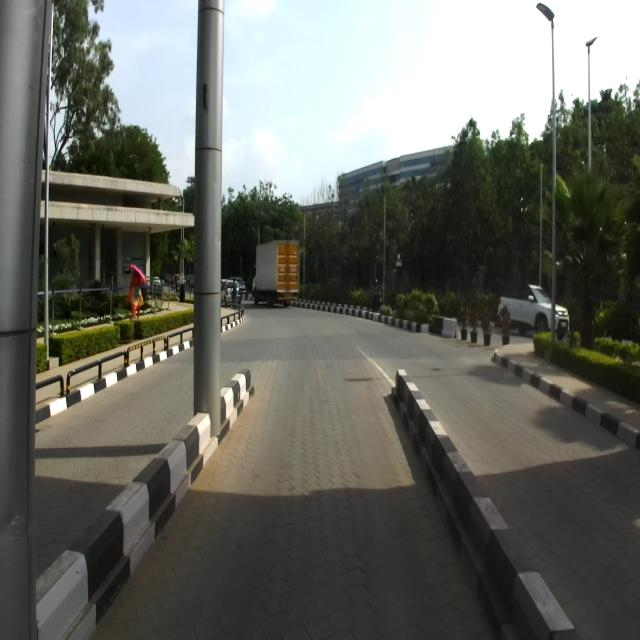electric pole ahead at: (189, 0, 226, 428)
